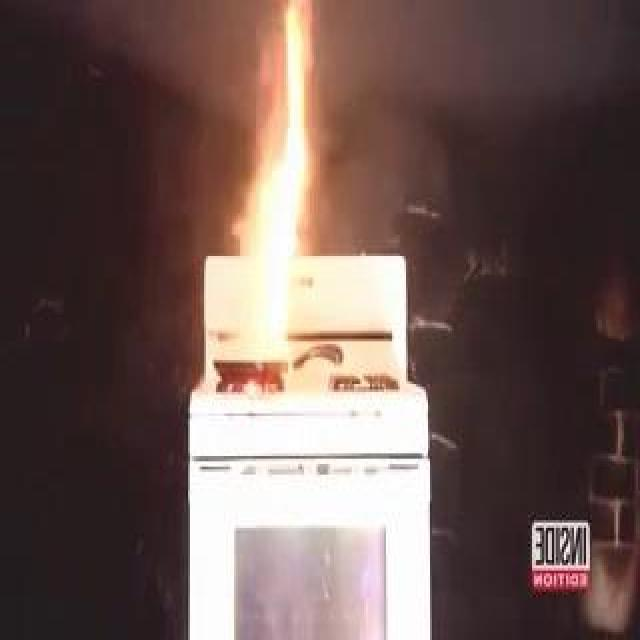Fire: (216, 3, 326, 357)
